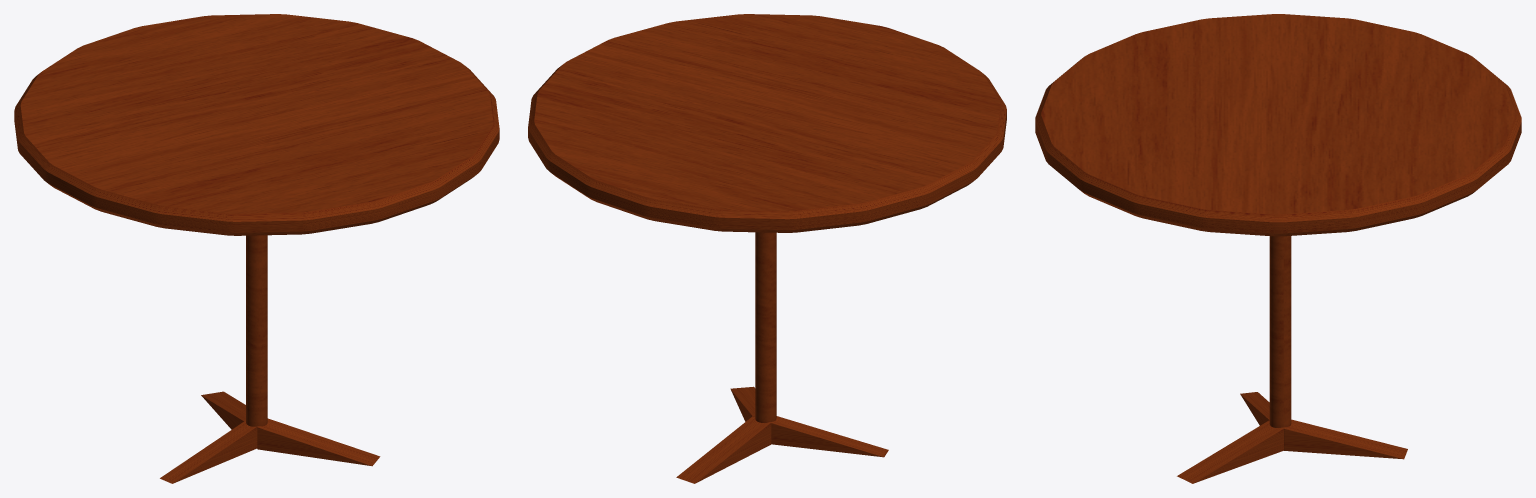
Rendered from RoundTab_Hall.fbx.
3 renders of one model, left to right at view 1: azimuth 30°, elevation 25°; view 2: azimuth 150°, elevation 25°; view 3: azimuth 270°, elevation 25°, orthographic.
Visible parts, largest first — view 1: RoundTab_Hall; view 2: RoundTab_Hall; view 3: RoundTab_Hall.
Boxes of the visible parts, box(x1,y1,x2,y2) form: RoundTab_Hall: box(14, 14, 499, 483); RoundTab_Hall: box(528, 14, 1006, 483); RoundTab_Hall: box(1035, 14, 1521, 483).
Size of the model in its own units: 3.99 by 2.99 by 3.99.
Materials: 1 (1 with a texture image).
